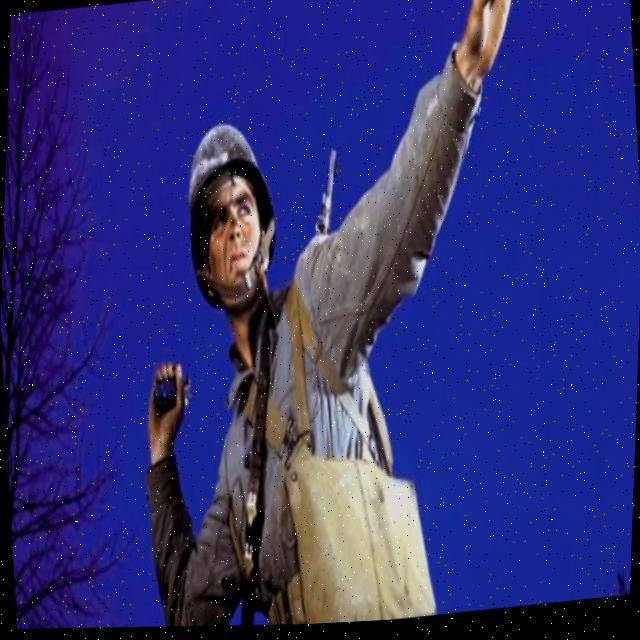grenade: (149, 363, 199, 425)
